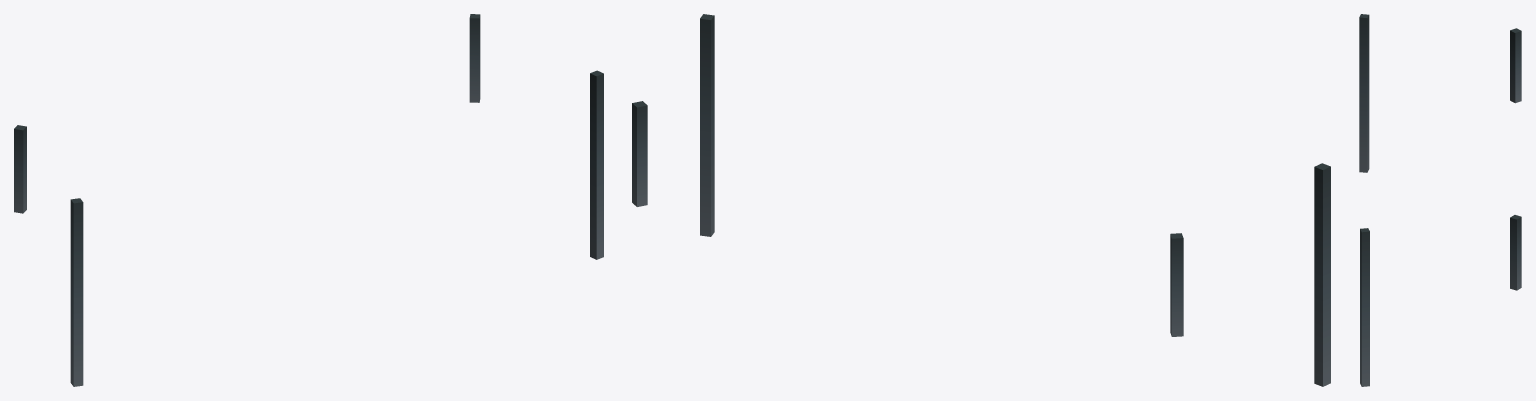
Rendered from FBX_BarreLaterali.fbx.
3 views of the same model, side by side, from view 1: azimuth 30°, elevation 25°; view 2: azimuth 150°, elevation 25°; view 3: azimuth 270°, elevation 25° (orthographic). The views are drawn at different scales.
Parts seen in each view (by area): view 1: Cube.009, Cube.008, Cube, Cube.001; view 2: Cube.009, Cube.008, Cube.001, Cube; view 3: Cube.009, Cube.008, Cube.001, Cube.
Boxes of the visible parts, box(x1,y1,x2,y2) form: Cube.009: box(70, 198, 83, 386); Cube.008: box(590, 70, 603, 259); Cube: box(14, 125, 26, 213); Cube.001: box(469, 14, 480, 102); Cube.009: box(1314, 163, 1330, 386); Cube.008: box(700, 14, 714, 236); Cube.001: box(632, 101, 647, 206); Cube: box(1170, 233, 1183, 336); Cube.009: box(1359, 14, 1369, 172); Cube.008: box(1360, 228, 1369, 386); Cube.001: box(1510, 215, 1521, 290); Cube: box(1510, 28, 1521, 103).
Bounding box in the file's own units: 1015 × 335 × 319.
1 material, 1 textured.
